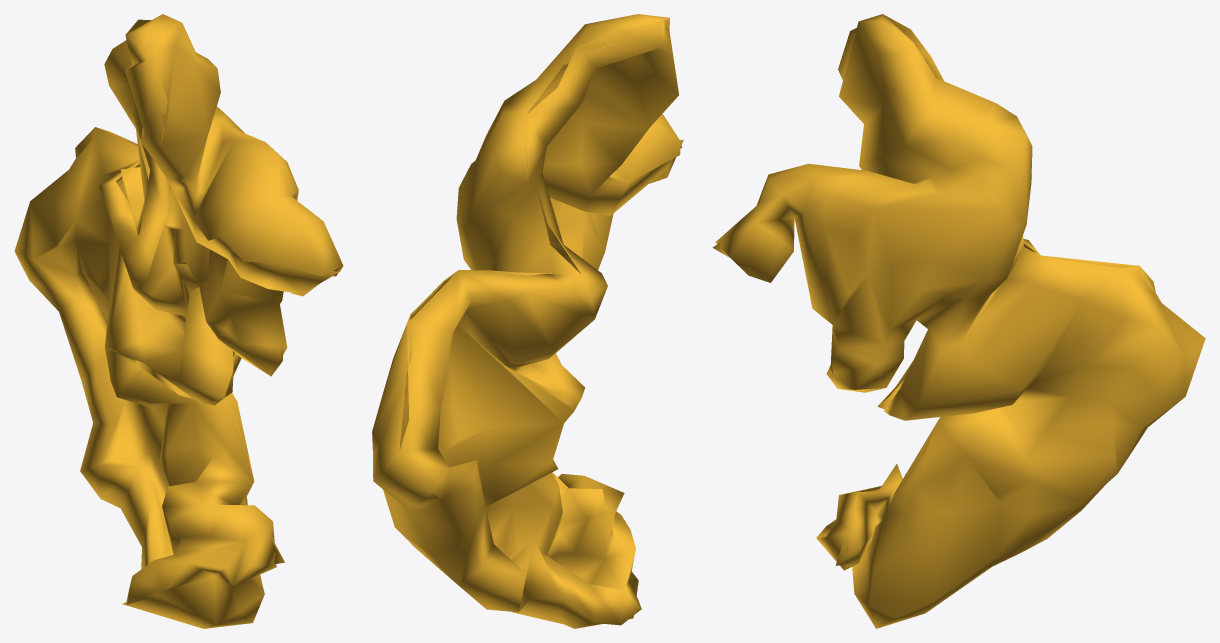
Rendered from nervoso-precuneus-r.glb.
3 views of the same model, side by side, from view 1: azimuth 30°, elevation 25°; view 2: azimuth 150°, elevation 25°; view 3: azimuth 270°, elevation 25° (orthographic). The views are drawn at different scales.
Parts seen in each view (by area): view 1: Precuneus.r; view 2: Precuneus.r; view 3: Precuneus.r.
Boxes of the visible parts, left/top/right/bottom form: Precuneus.r: left=14, top=14, right=343, bottom=628; Precuneus.r: left=372, top=14, right=683, bottom=628; Precuneus.r: left=712, top=14, right=1205, bottom=628.
Size of the model in its own units: 0.0164 by 0.0678 by 0.0539.
